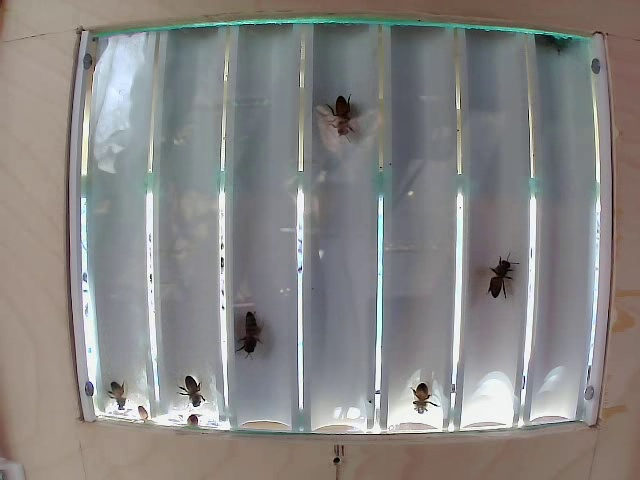bee: (326, 81, 362, 154), (231, 308, 281, 353), (482, 243, 523, 292), (178, 366, 217, 408), (406, 383, 439, 421)
